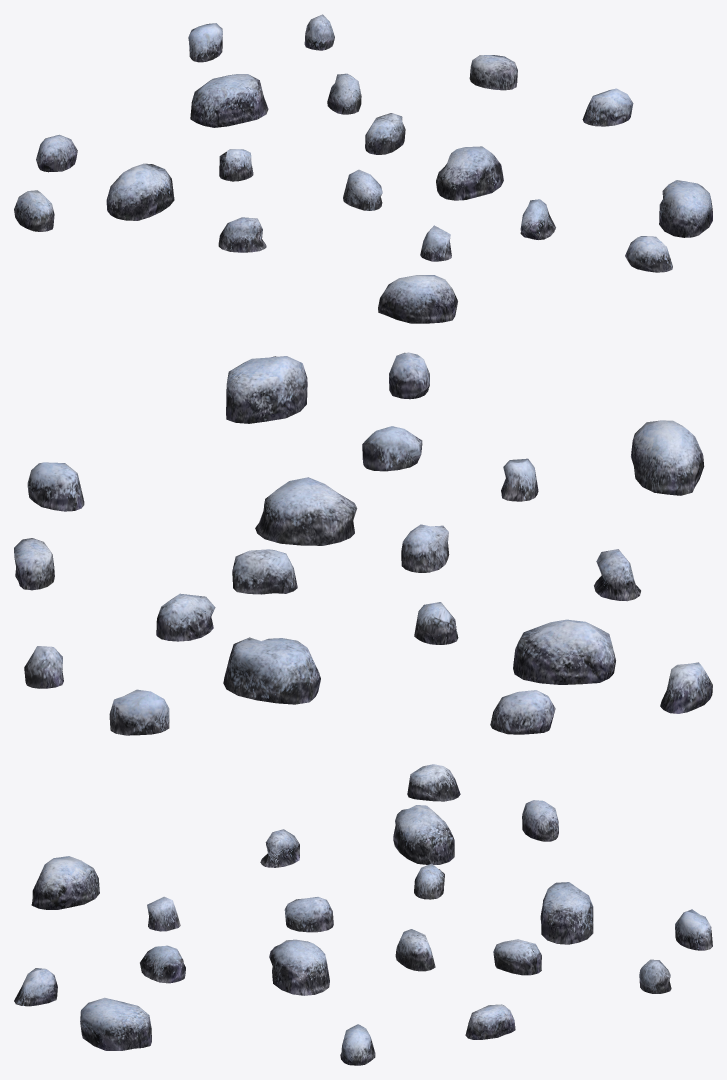
The model's file is rocks_pebbles.fbx.
3 views of the same model, one above another, from view 1: azimuth 30°, elevation 25°; view 2: azimuth 150°, elevation 25°; view 3: azimuth 270°, elevation 25° (orthographic). The views are drawn at different scales.
Visible parts, largest first — view 1: Mesh; view 2: Mesh; view 3: Mesh.
Part boxes in pixels (x1,y1,x2,y2): Mesh: (14, 14, 712, 323); Mesh: (14, 352, 712, 735); Mesh: (14, 764, 712, 1065).
Size of the model in its own units: 426 by 27.63 by 450.
1 material, 1 textured.
